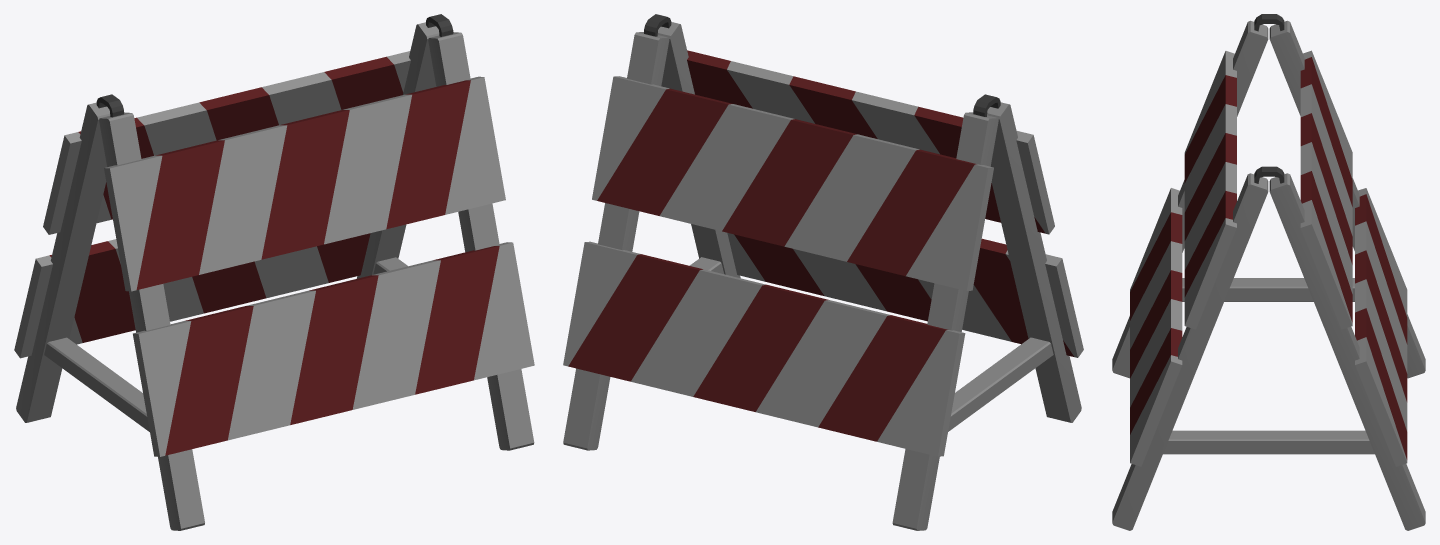
File: props_60.glb
3 views of the same model, side by side, from view 1: azimuth 30°, elevation 25°; view 2: azimuth 150°, elevation 25°; view 3: azimuth 270°, elevation 25° (orthographic). The views are drawn at different scales.
Visible parts, largest first — view 1: props_60; view 2: props_60; view 3: props_60.
Boxes of the visible parts, left/top/right/bottom form: props_60: left=14, top=14, right=534, bottom=530; props_60: left=563, top=14, right=1083, bottom=530; props_60: left=1112, top=14, right=1425, bottom=530.
Bounding box in the file's own units: 1.24 × 1.18 × 0.9429.
1 material, 1 textured.
